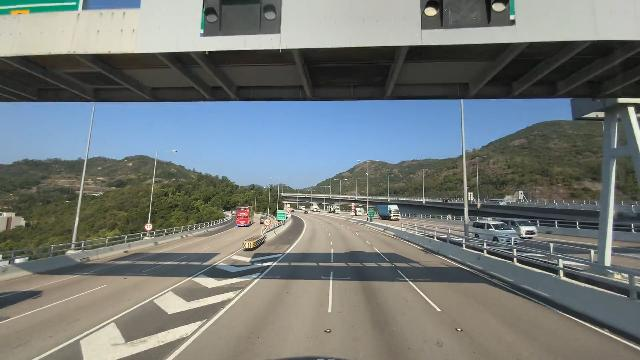bus: (234, 205, 257, 228)
truck: (375, 203, 402, 221), (354, 206, 363, 217)
van: (471, 216, 521, 244), (496, 211, 539, 236)
